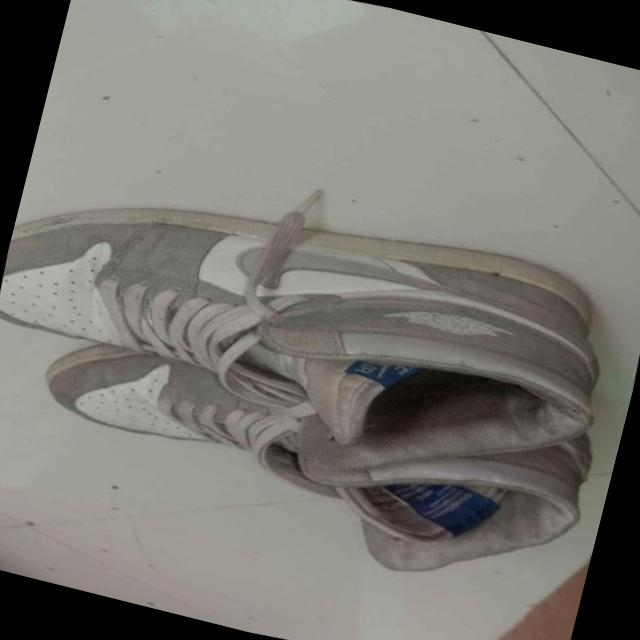nike_fake_jordan: (0, 132, 633, 551), (11, 290, 606, 631)
